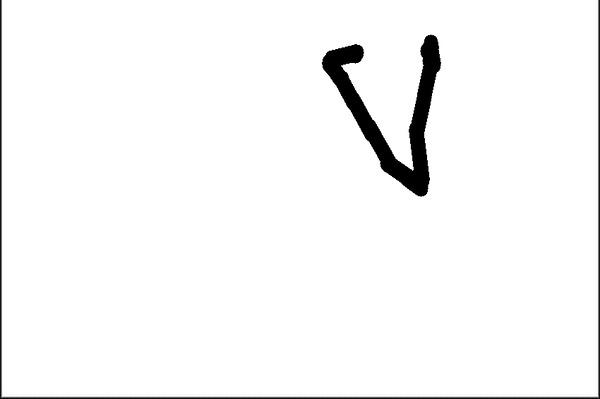V: (300, 26, 467, 201)
